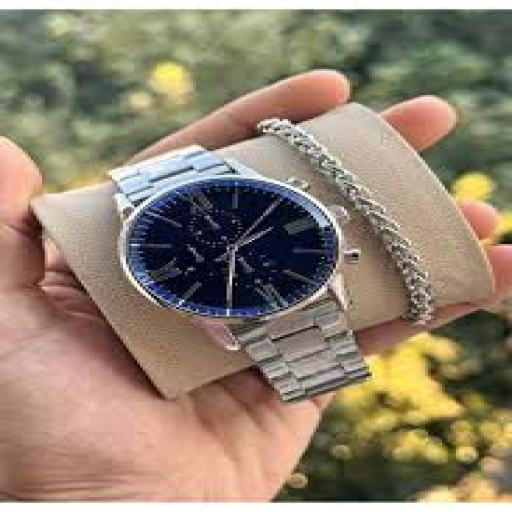KolSaati: (100, 133, 399, 424)
